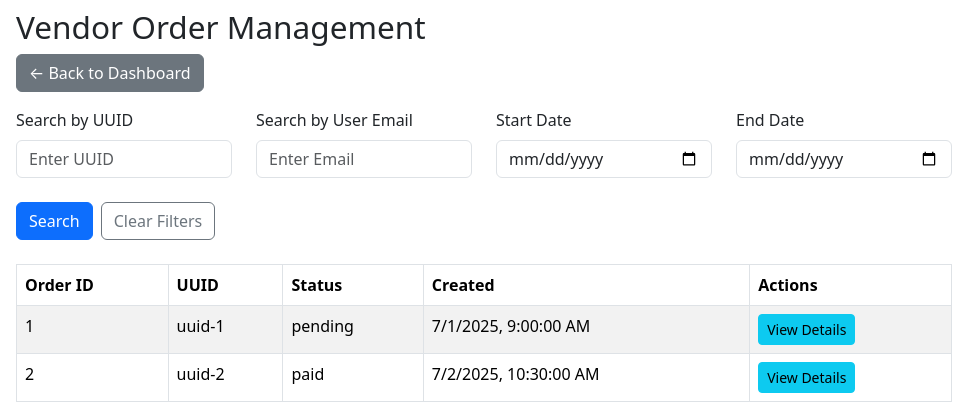
Test: VendorOrderManagement › clears filters and reloads all orders when Clear Filters is clicked
The width and height of the screenshot is (969, 419).
Check: the text "uuid-1" is shown, box [168,305,283,353]
Note: change inputs
Type "something" into the field labelled "Search by UUID" at (124, 159), box [16,140,232,178]
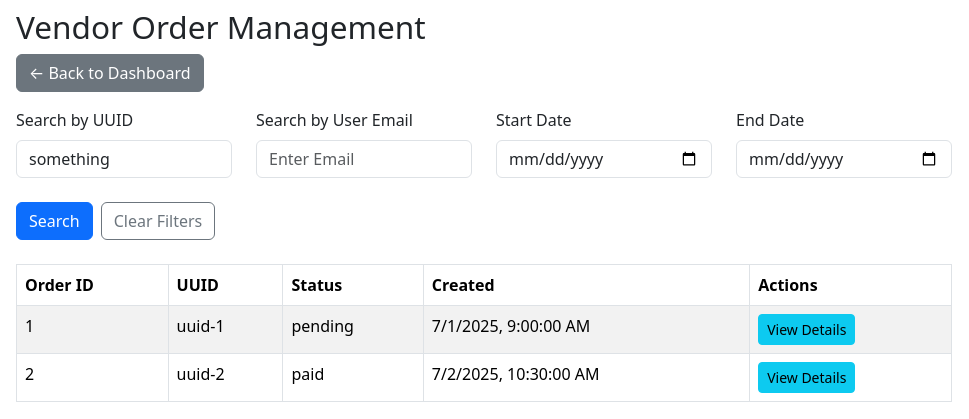
Type "bar@example.com" into the field labelled "Search by User Email" at (364, 159), box [256,140,472,178]
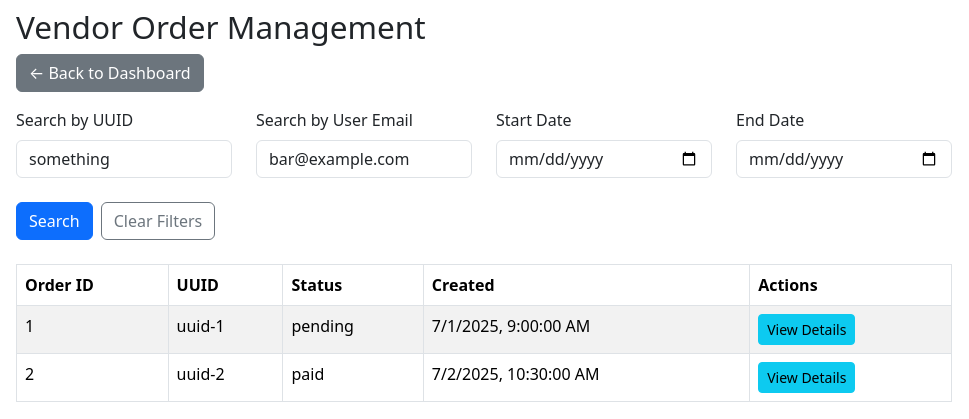
Note: click Clear Filters
Click the button "Clear Filters" at (158, 221), box [101,202,215,240]
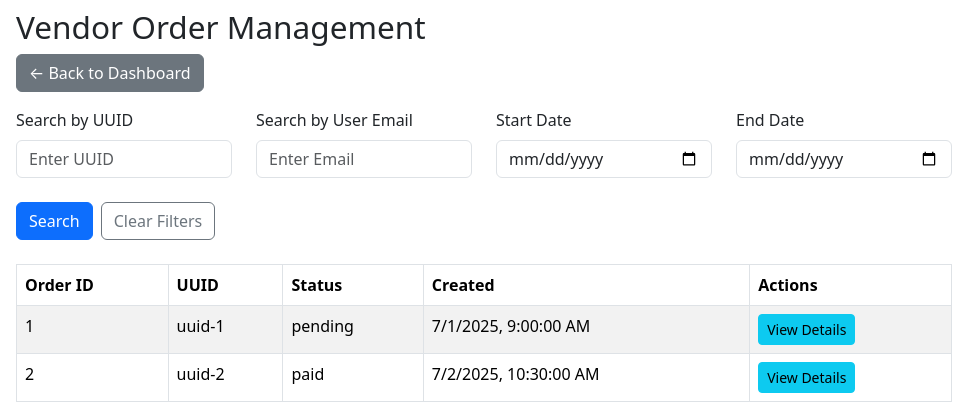
Check: the text "uuid-1" is shown, box [168,305,283,353]
Check: the field labelled "Search by UUID" is empty, box [16,140,232,178]
Check: the field labelled "Search by User Email" is empty, box [256,140,472,178]
